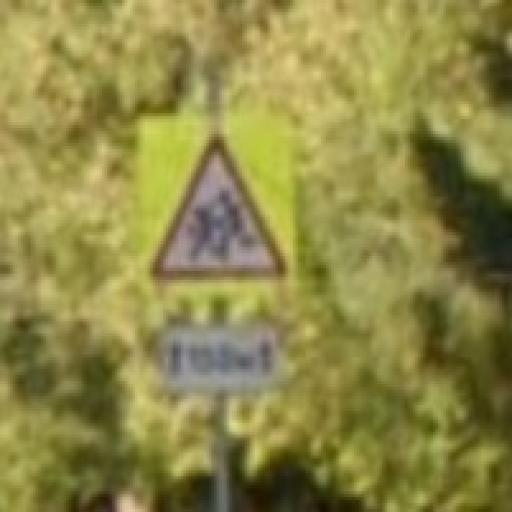traffic_sign: (147, 132, 292, 287)
